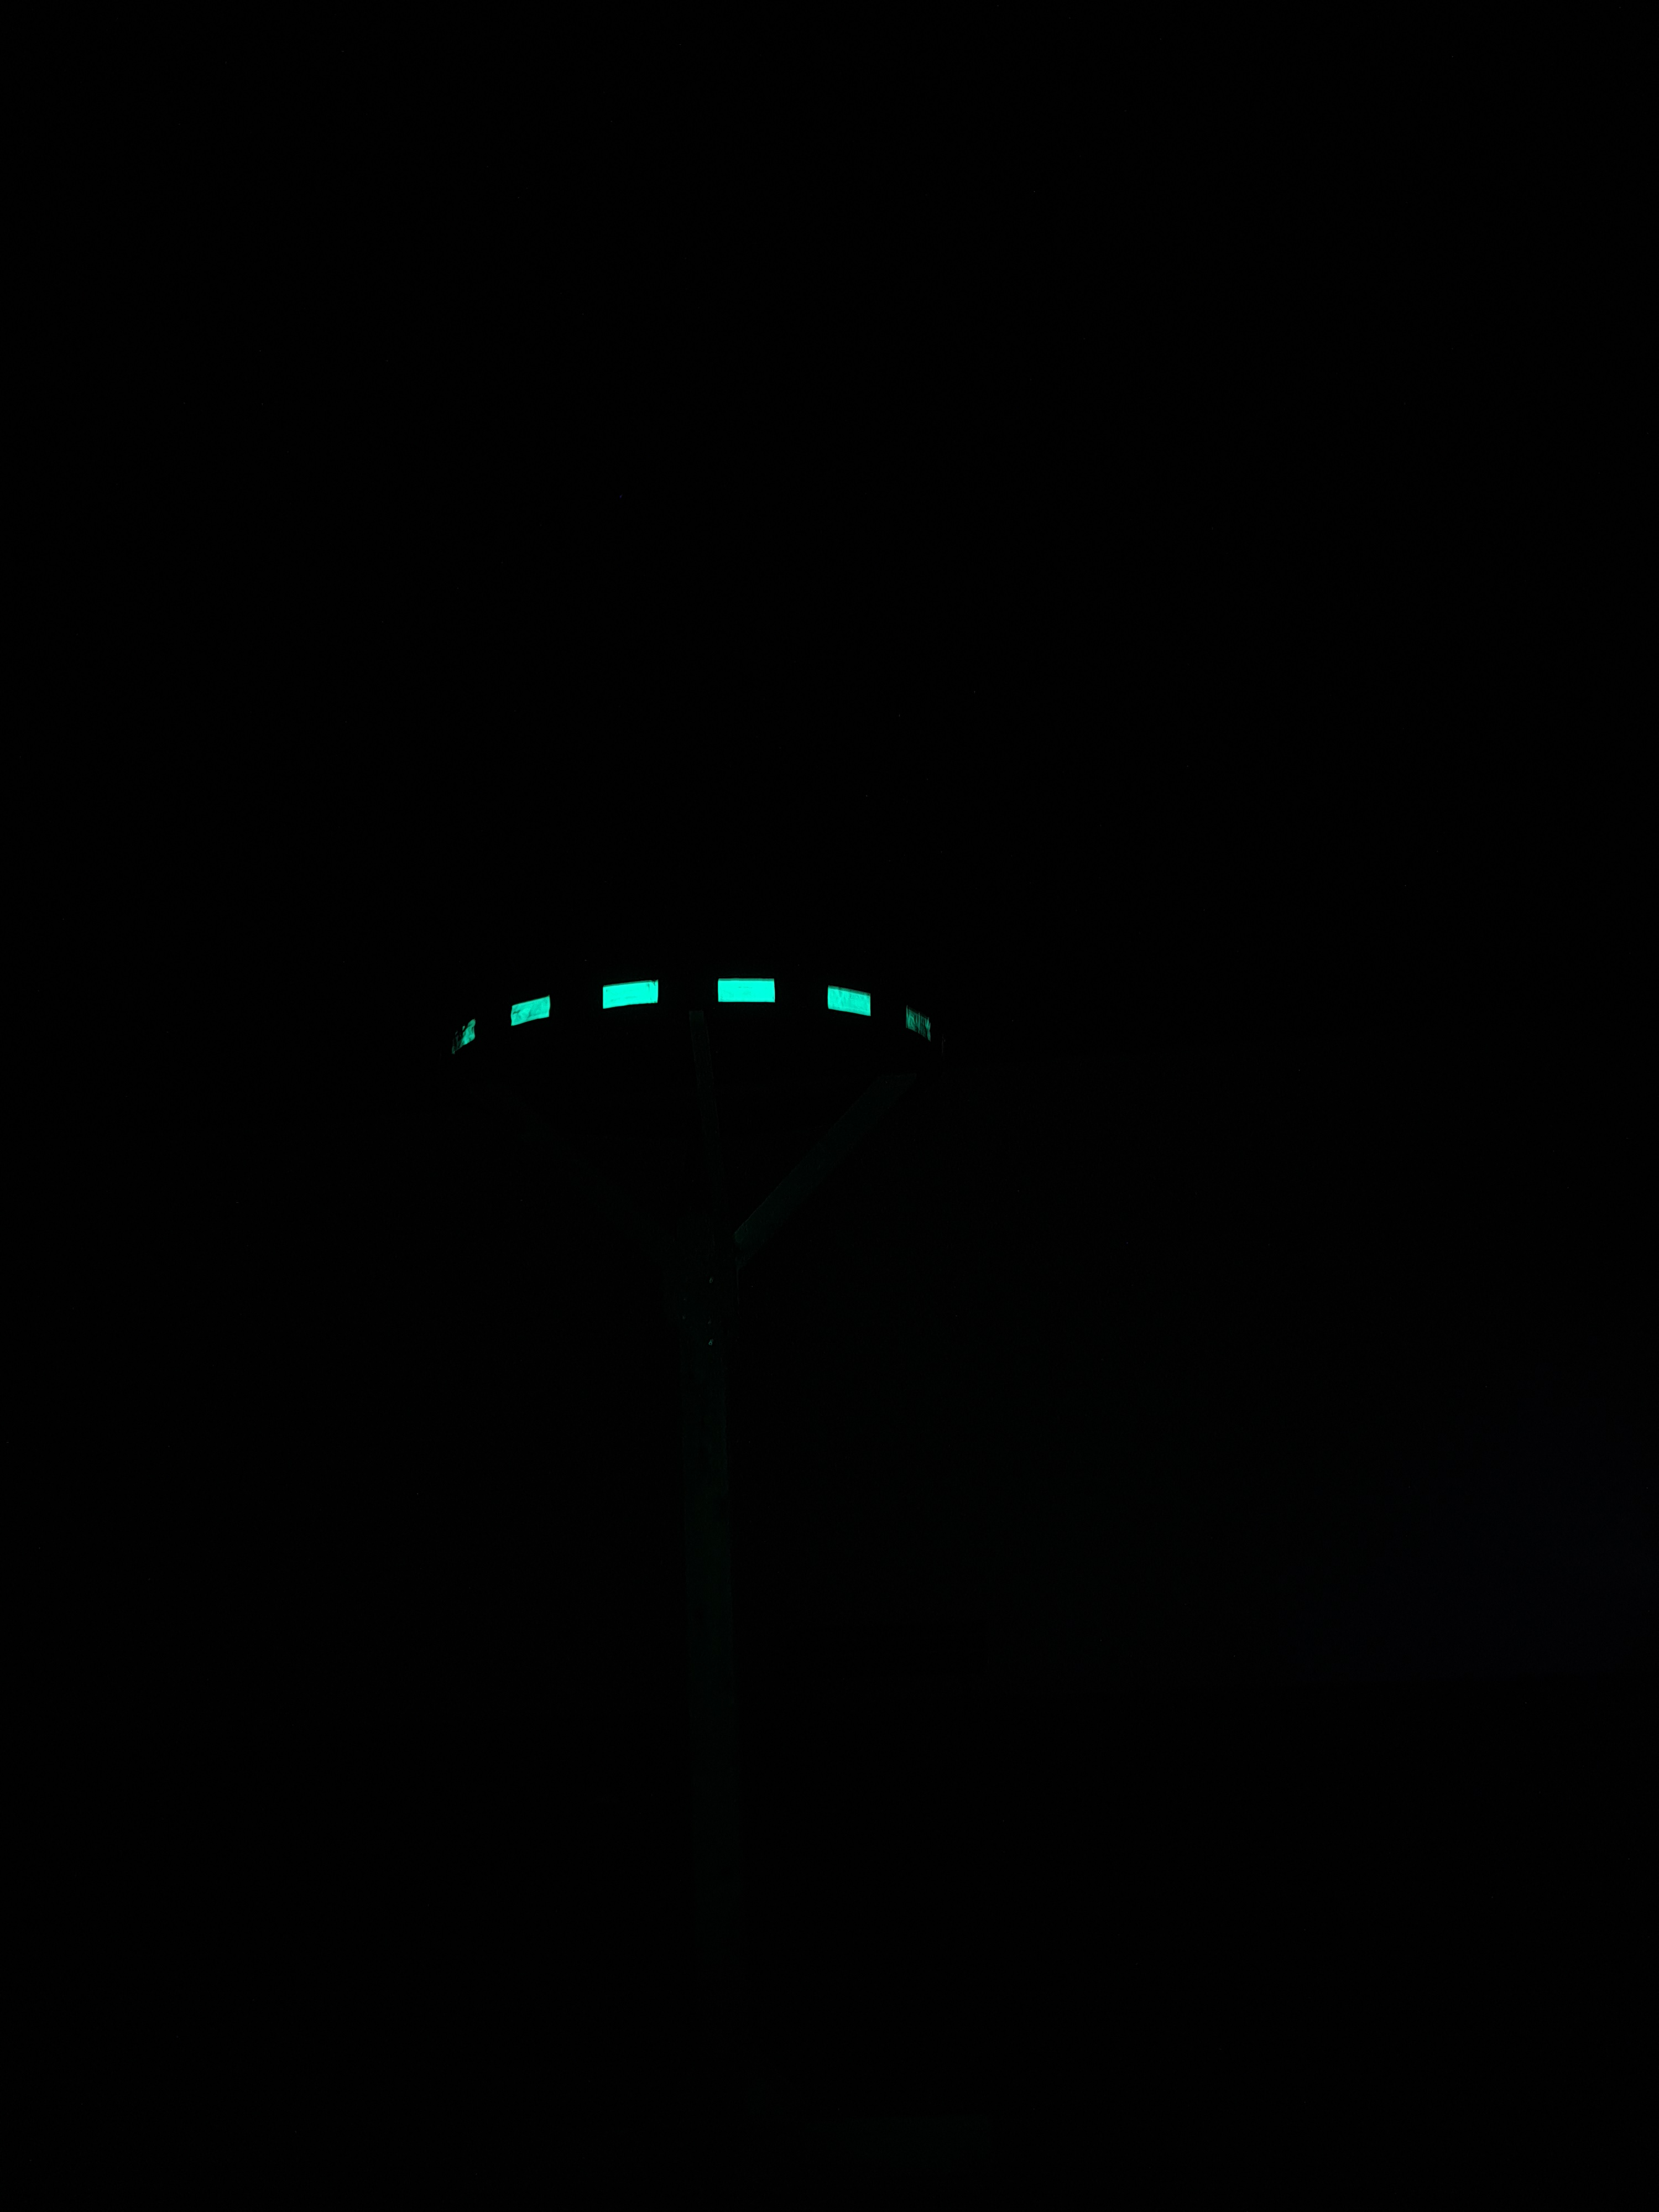hoop: (443, 972, 936, 1059)
